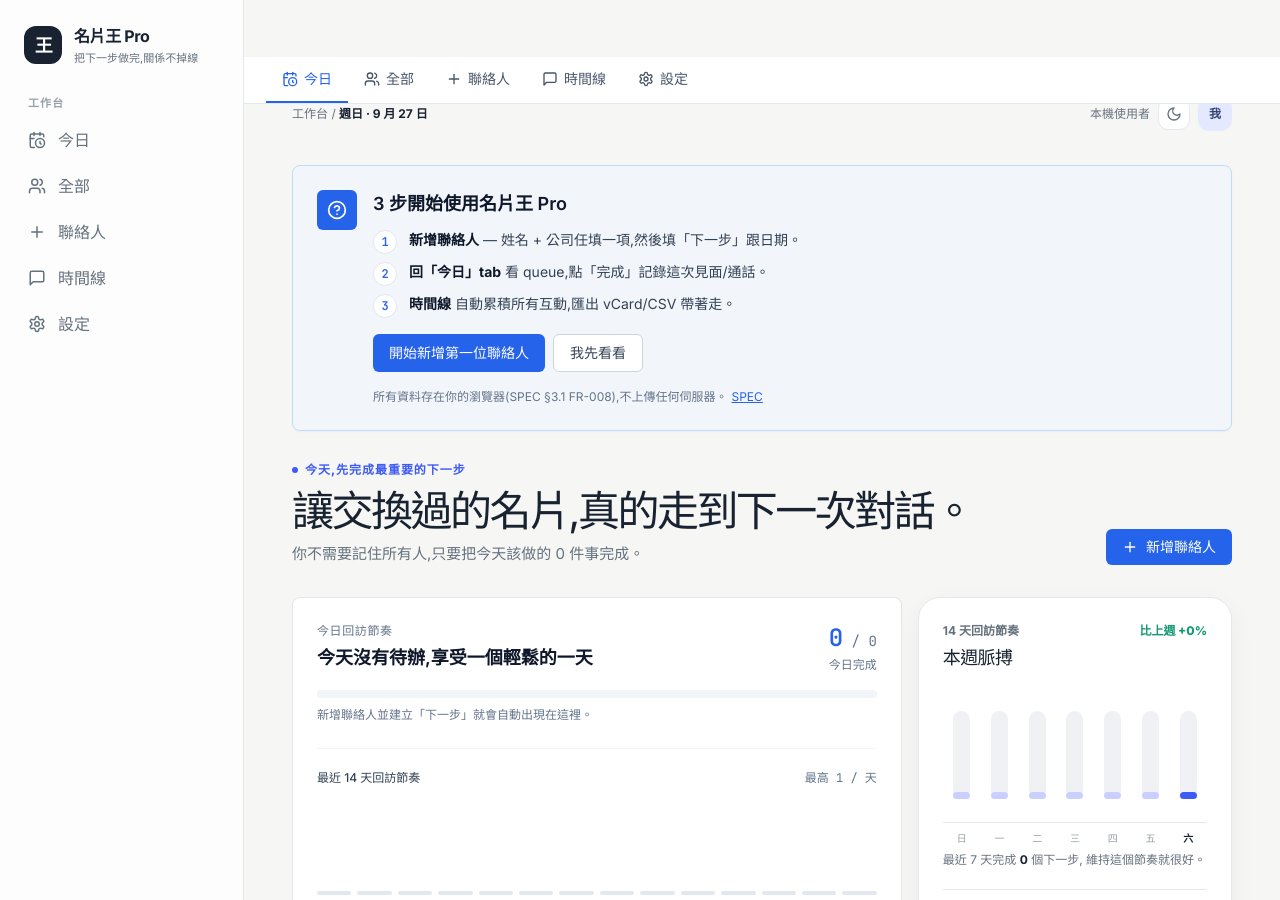
Scenario: Onboarding hint (首次訪問) › 點「我先看看」 → dismiss 後不再顯示
Click the button "我先看看".
click(598, 353)  # box x1=553 y1=334 x2=643 y2=372
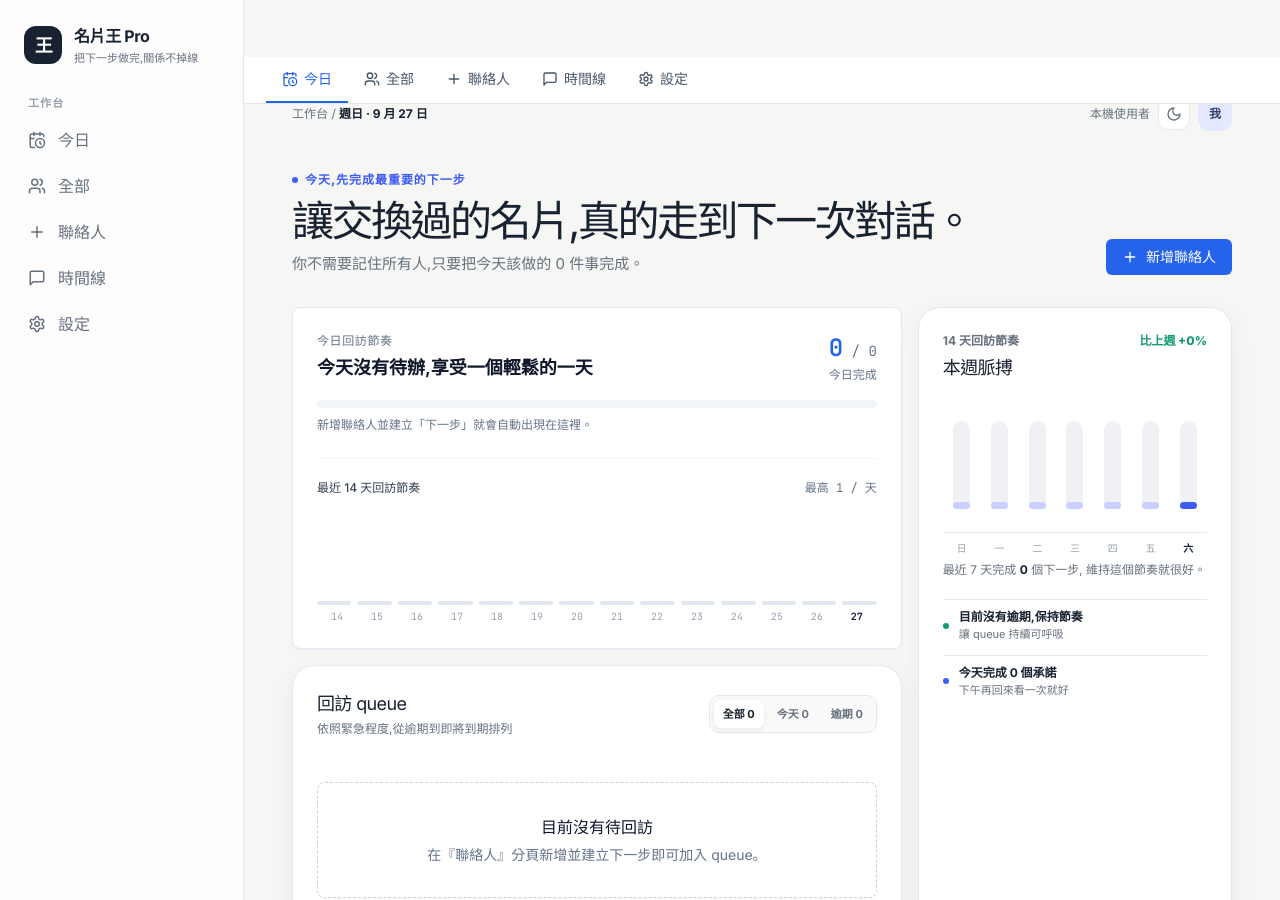
Expected: the element "新使用者指引" is gone
